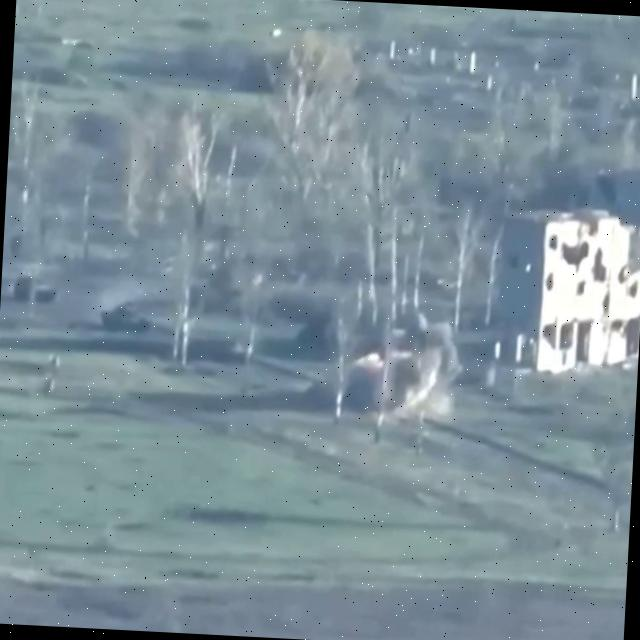AIFV: (12, 273, 58, 306)
MBT: (100, 301, 158, 336)
